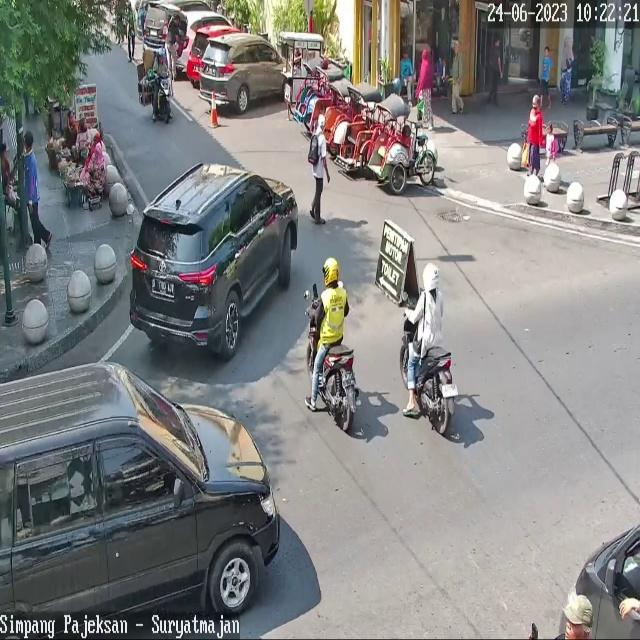bus: (399, 300, 456, 435), (305, 296, 360, 434), (151, 71, 173, 124)
motorcycle: (0, 361, 279, 640), (130, 162, 297, 359), (559, 524, 640, 639), (201, 34, 281, 113), (164, 9, 233, 67), (144, 0, 212, 54), (186, 24, 242, 82)
